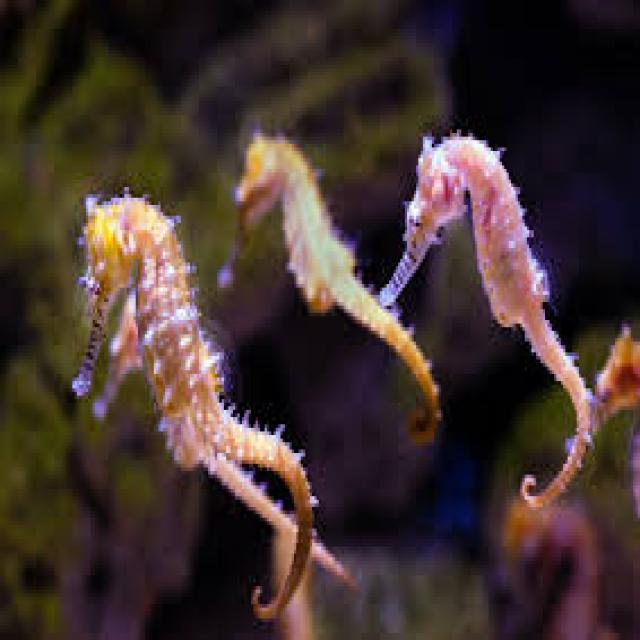SeaHorse: (70, 194, 314, 626), (376, 133, 594, 511), (213, 130, 441, 428)
